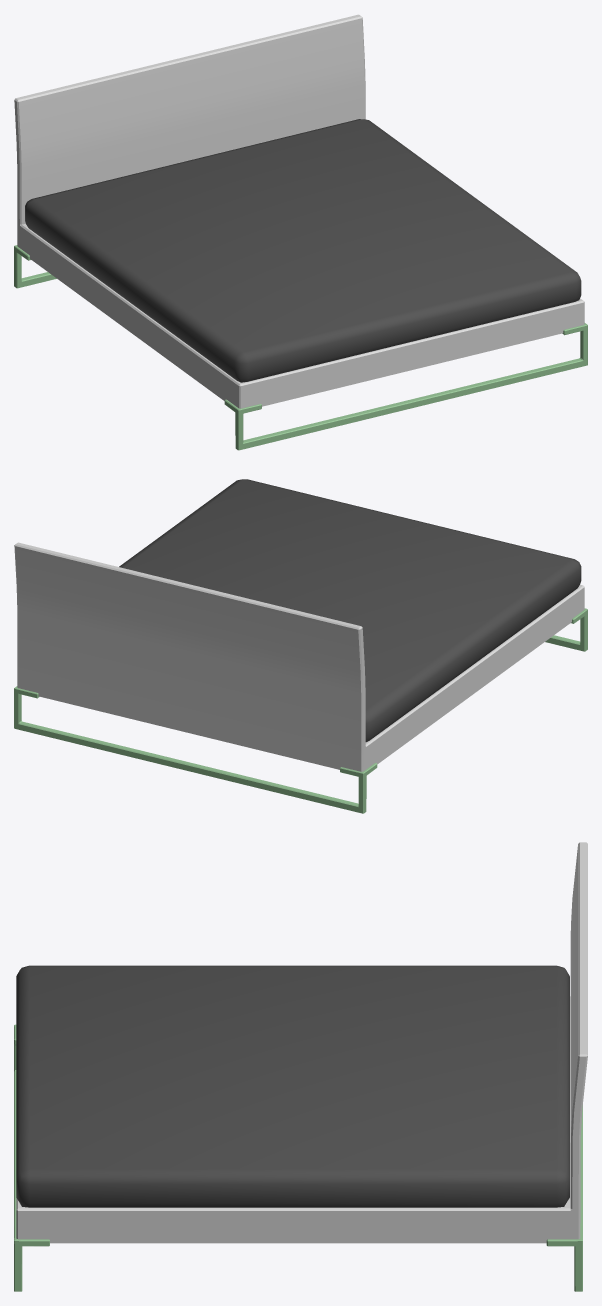
The model's file is MZABD01.FBX.
The picture shows the model from 3 angles, top to bottom: view 1: azimuth 30°, elevation 25°; view 2: azimuth 150°, elevation 25°; view 3: azimuth 270°, elevation 25°; orthographic projection. The views are drawn at different scales.
Visible parts, largest first — view 1: MZABD01; view 2: MZABD01; view 3: MZABD01.
Boxes of the visible parts, x1,y1,x2,y2 form: MZABD01: [14, 14, 587, 450]; MZABD01: [14, 479, 587, 813]; MZABD01: [14, 842, 587, 1291].
Size of the model in its own units: 186 by 209 by 94.51.
